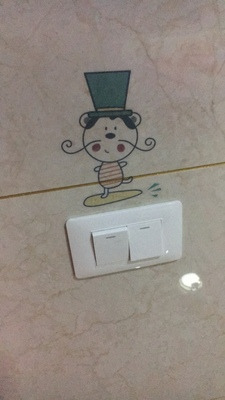switch: (89, 222, 132, 268), (128, 215, 167, 264)
